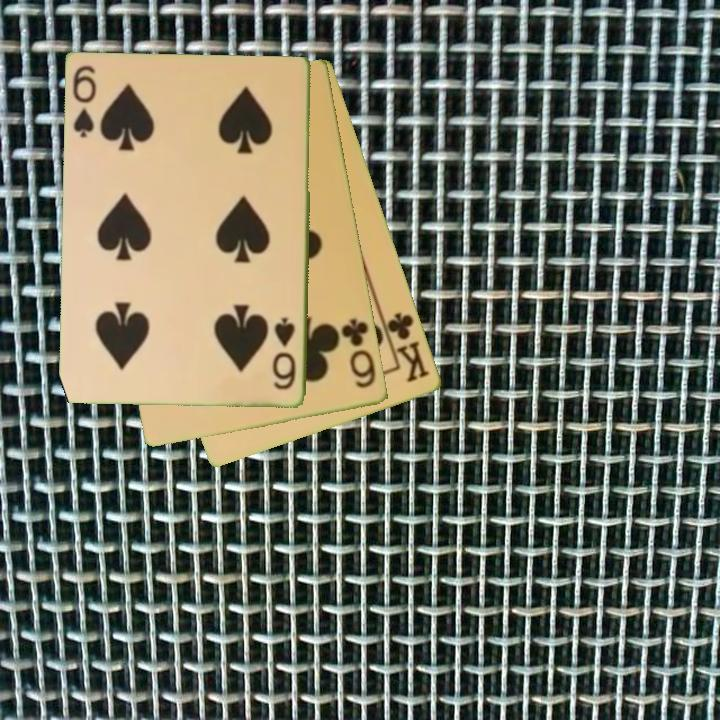6c: (338, 315, 379, 391)
6s: (269, 315, 299, 393), (70, 63, 99, 141)
Kc: (379, 308, 433, 386)
